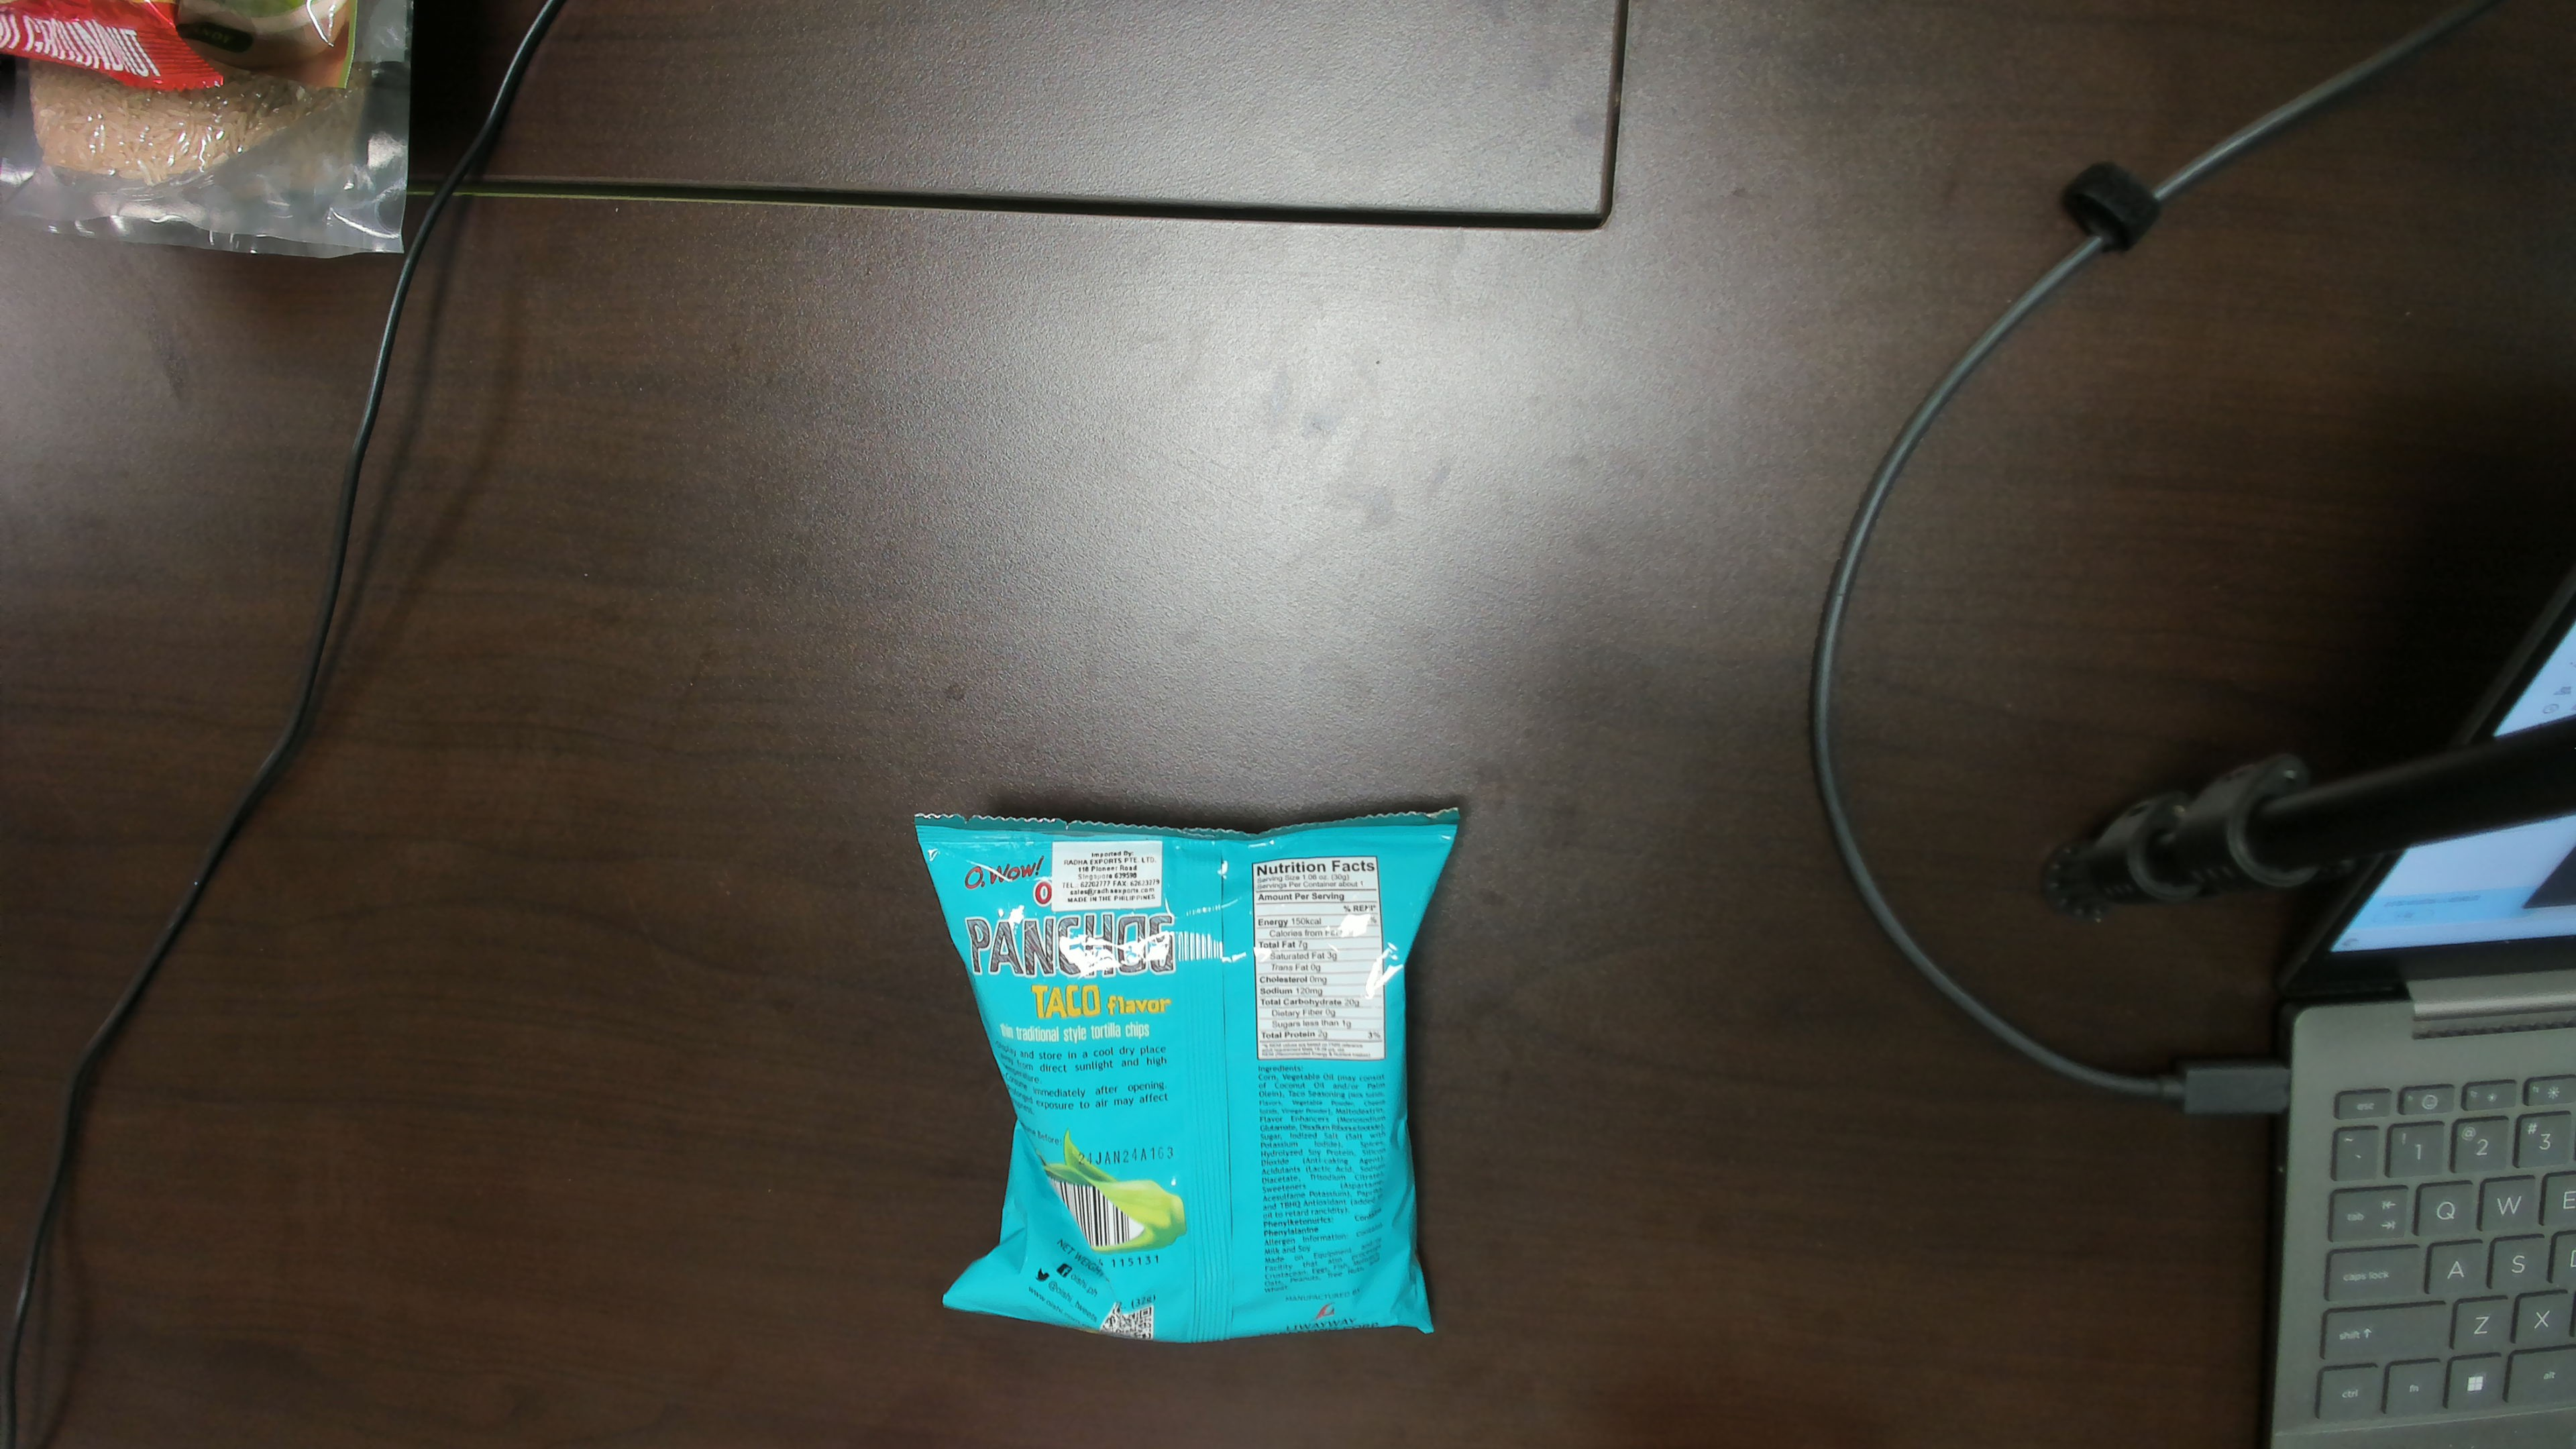PotatochipsKeropok_1-99g_NonHalal_NonHealthy: (955, 828, 1417, 1330)
